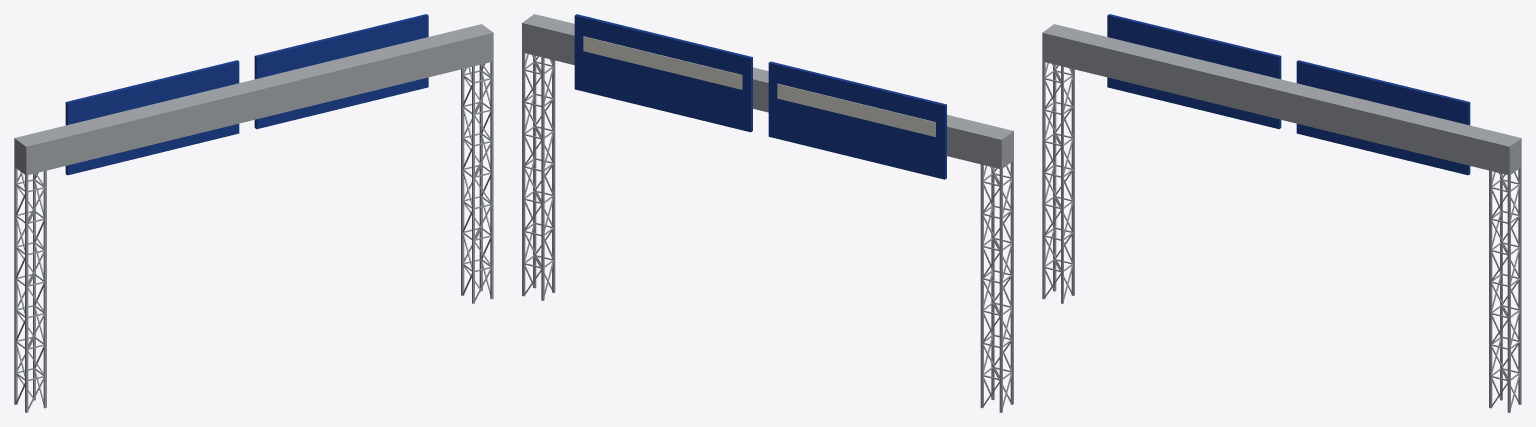
The model's file is road.feature.gantry_sign.glb.
3 views of the same model, side by side, from view 1: azimuth 30°, elevation 25°; view 2: azimuth 150°, elevation 25°; view 3: azimuth 330°, elevation 25° (orthographic). The views are drawn at different scales.
Visible parts, largest first — view 1: main__steel_galvanised, main__plastic_blue; view 2: main__plastic_blue, main__steel_galvanised, main__paint_white; view 3: main__steel_galvanised, main__plastic_blue.
Boxes of the visible parts, box(x1,y1,x2,y2) form: main__steel_galvanised: box(14, 24, 493, 412); main__plastic_blue: box(65, 14, 428, 175); main__plastic_blue: box(574, 14, 946, 179); main__steel_galvanised: box(522, 14, 1013, 412); main__paint_white: box(583, 36, 935, 136); main__steel_galvanised: box(1042, 24, 1521, 412); main__plastic_blue: box(1107, 14, 1470, 175).
Size of the model in its own units: 13.6 by 8.01 by 0.715.
